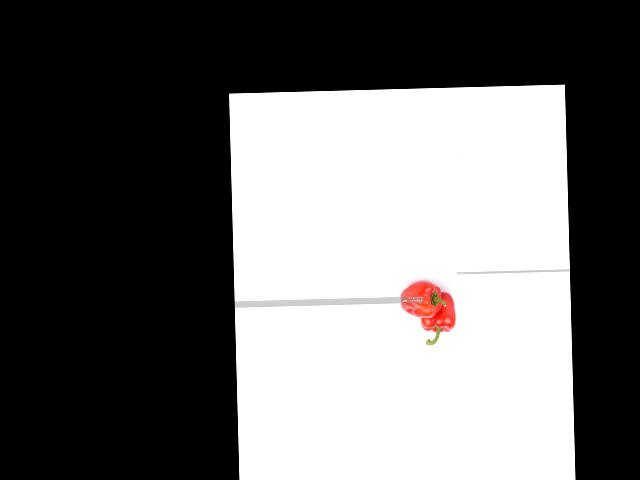bell_pepper: (395, 281, 445, 322)
